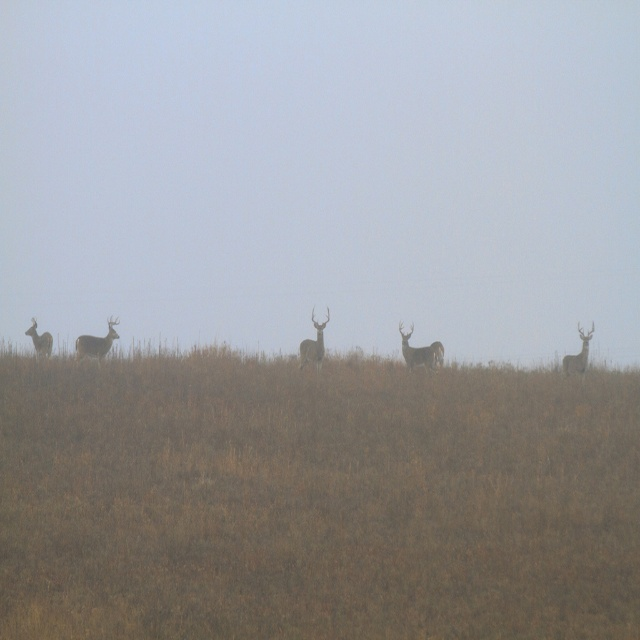Deer: (561, 315, 595, 379), (73, 315, 117, 364), (397, 324, 445, 364), (302, 307, 332, 364), (27, 319, 52, 355)
